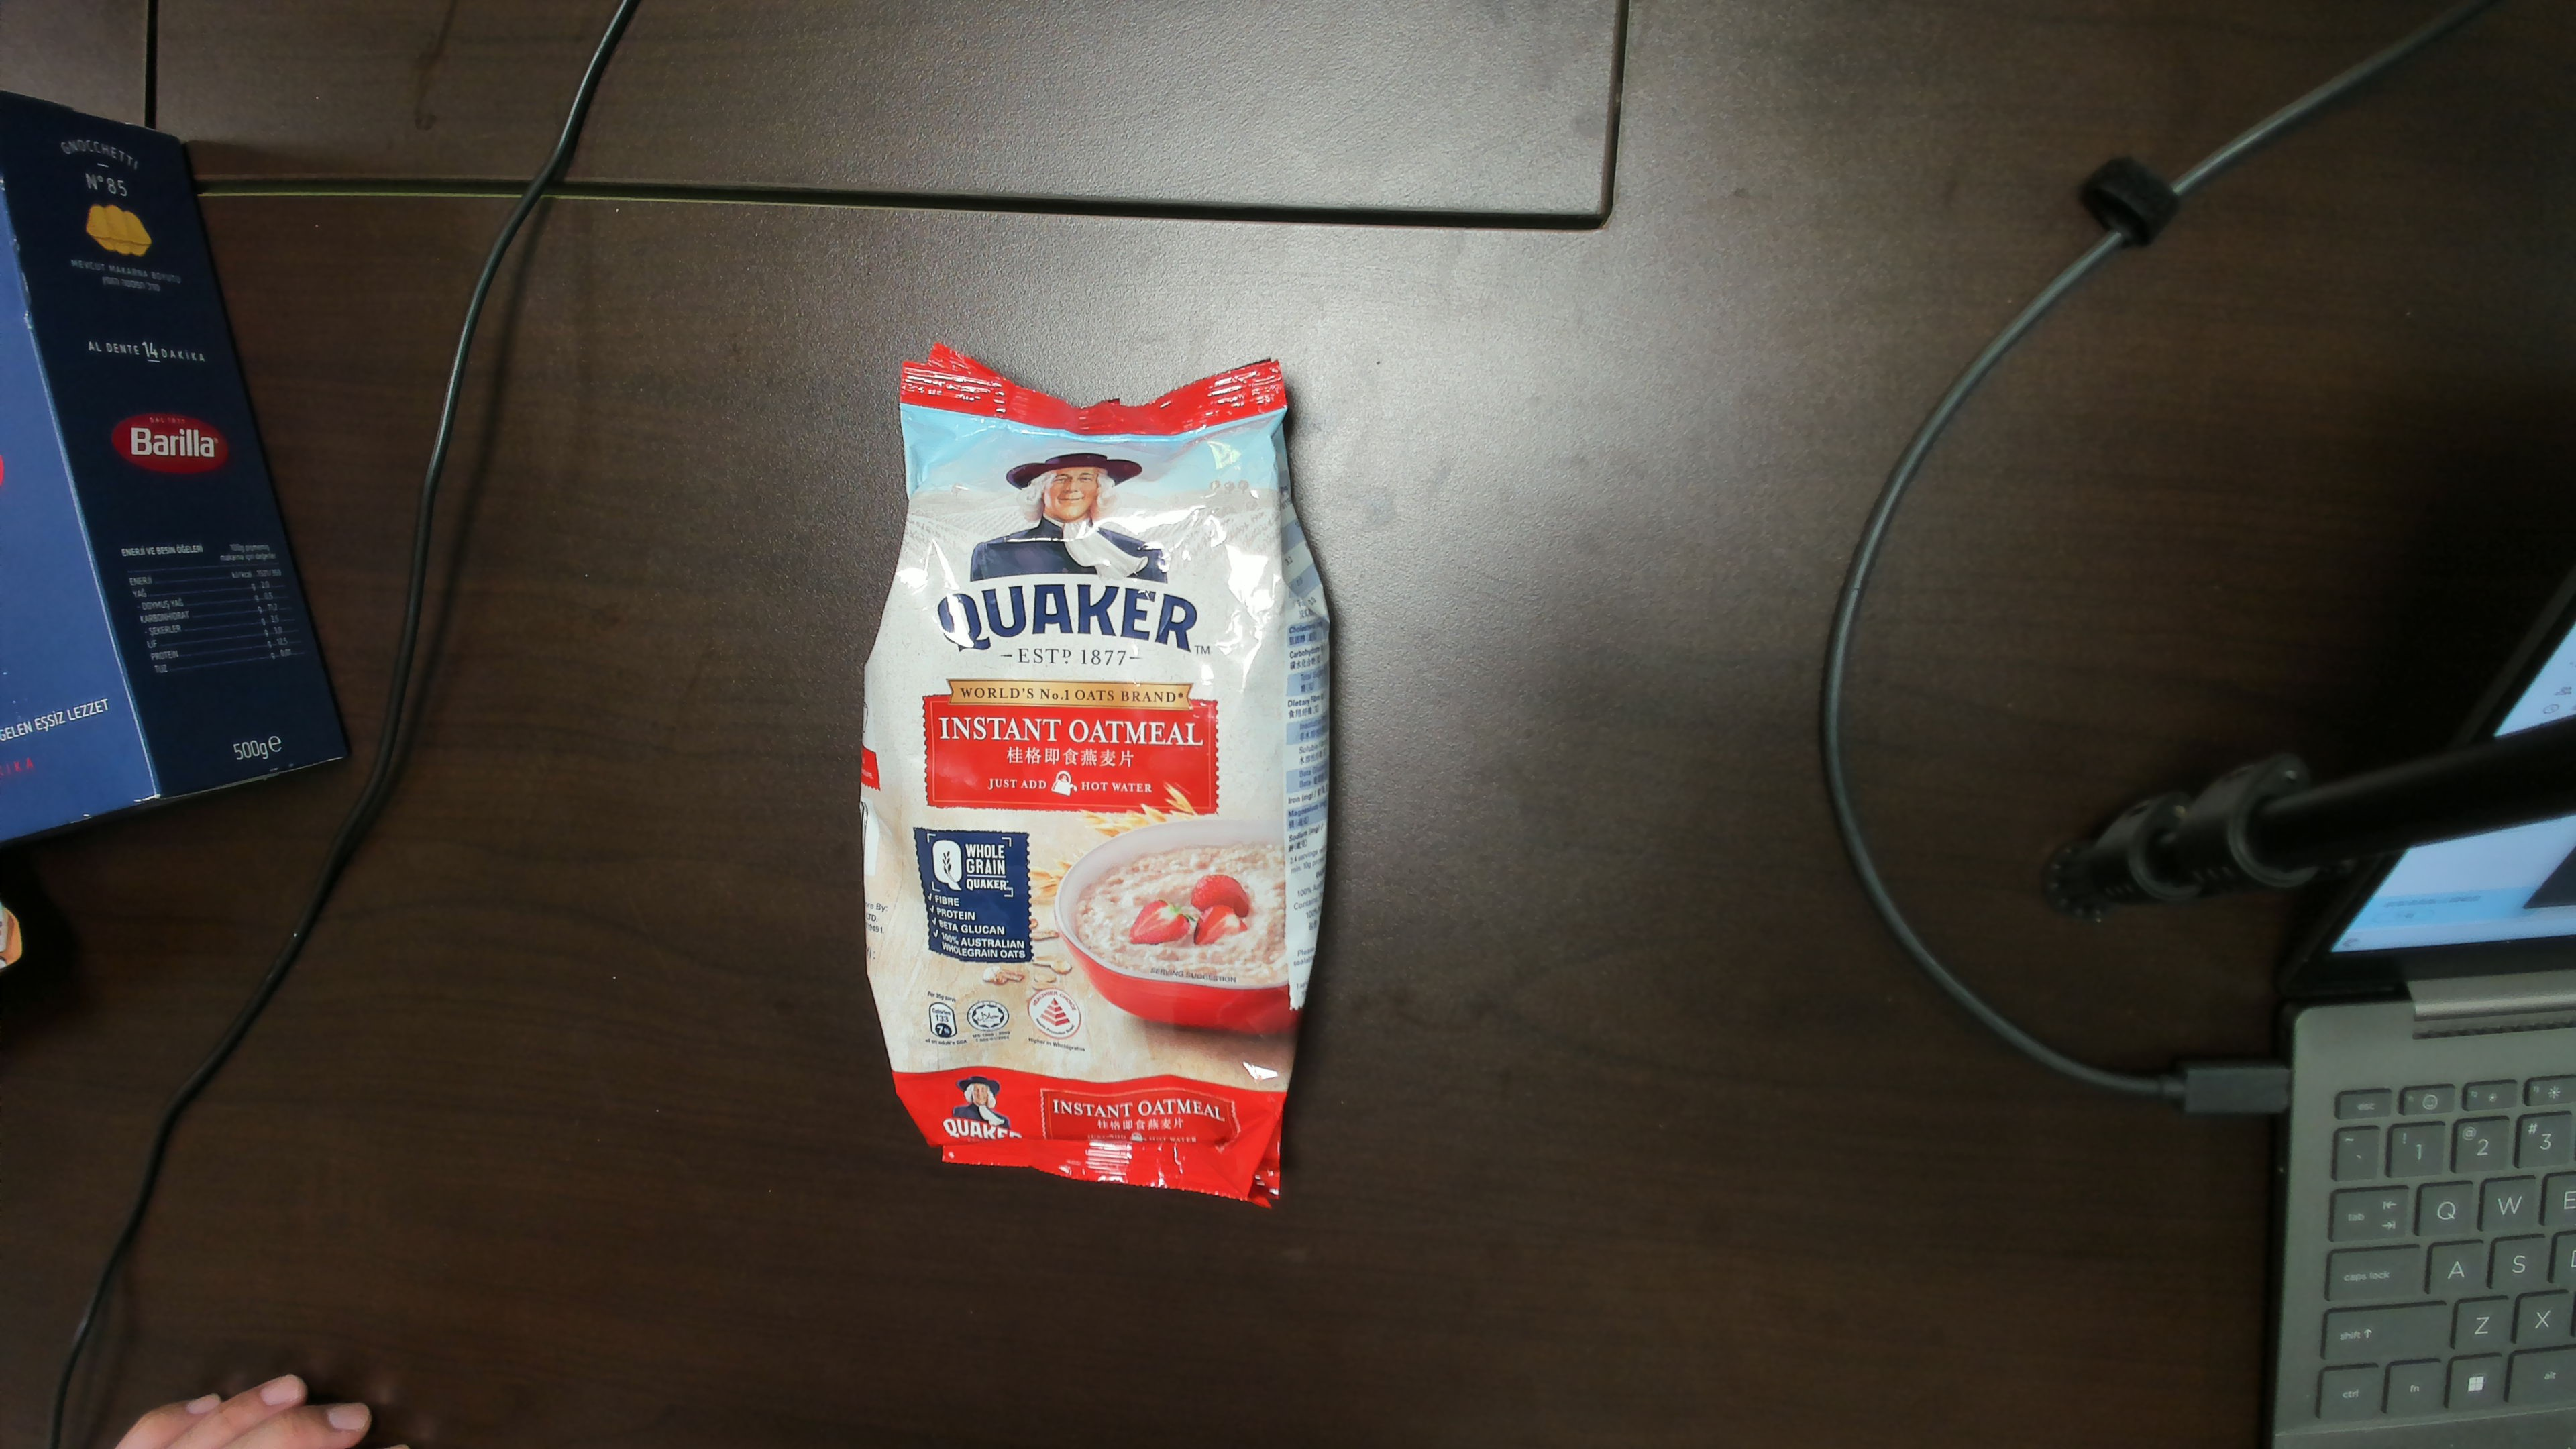RolledOatsInstantOatmeal_400-499g_Halal_Healthy: (901, 407, 1327, 1189)
